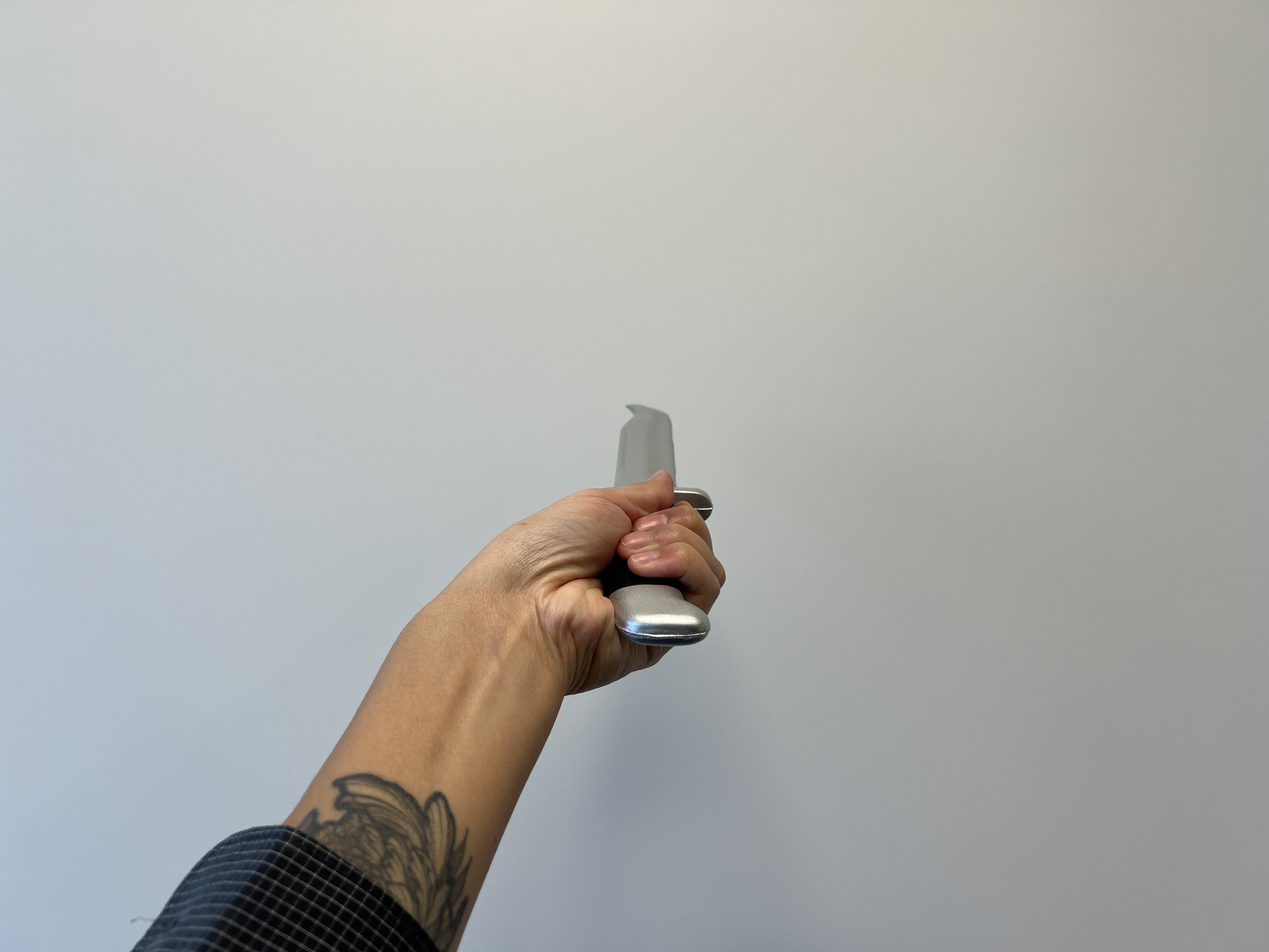Knife: (146, 485, 726, 952), (540, 475, 727, 676), (596, 402, 709, 515)
